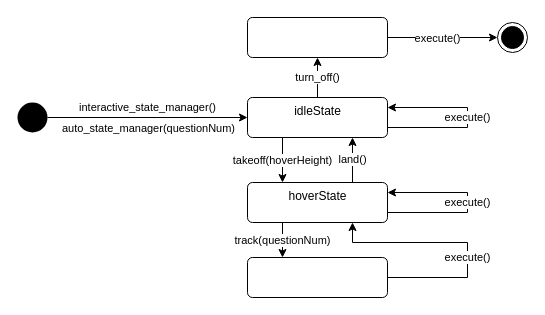
This 545x315 diagram has some shape labels left out. The centre of each missing label's shape, as x and y in pixels:
"offState" goes at (317,37).
"trackingState" goes at (317,277).
